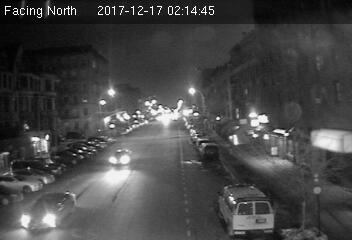car: (18, 190, 78, 233), (108, 148, 134, 167)
police: (217, 181, 277, 236)
